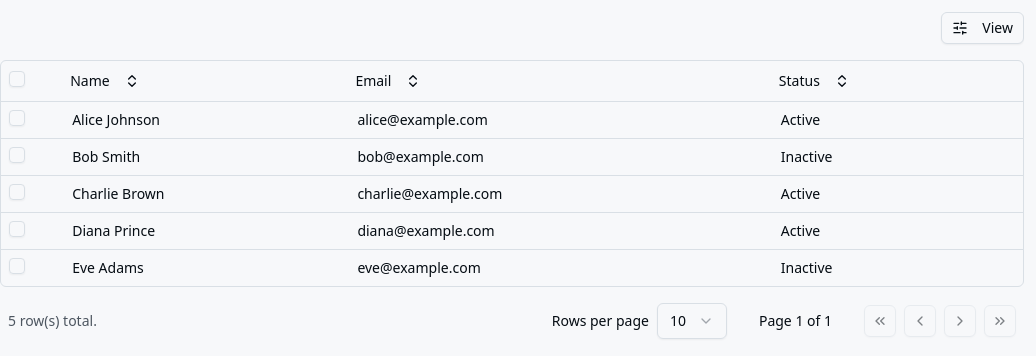
it: DataTable › Row Selection › should select all rows when header checkbox is clicked
This screenshot has width=1036, height=356.
Click the header checkbox
Click the checkbox named "Select all" at (17, 79), box [9,71,25,87]
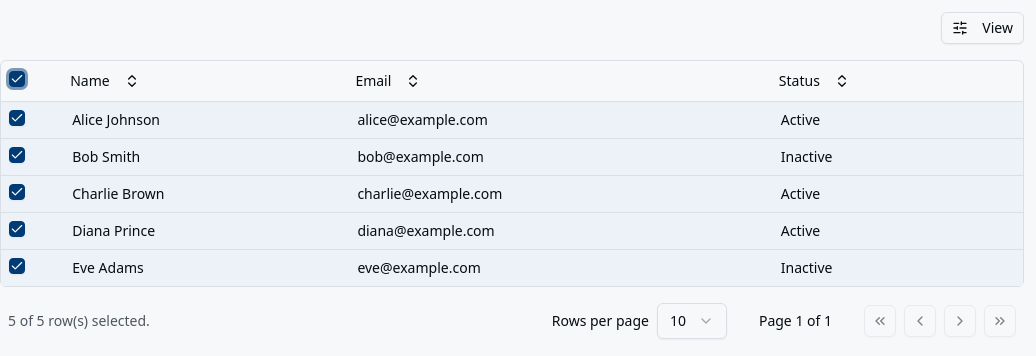
Result: the text "5 of 5 row(s) selected." is shown at [8,310,150,330]
